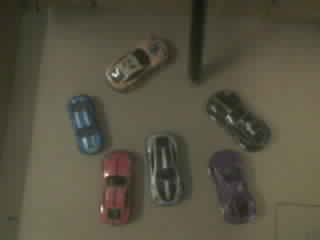Car: (208, 90, 270, 151), (209, 150, 255, 223), (107, 38, 167, 90), (146, 133, 183, 204), (101, 150, 130, 223), (69, 95, 102, 152)
